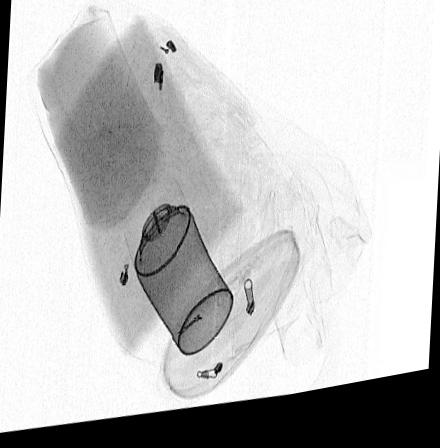Sprayer: (121, 182, 233, 364)
